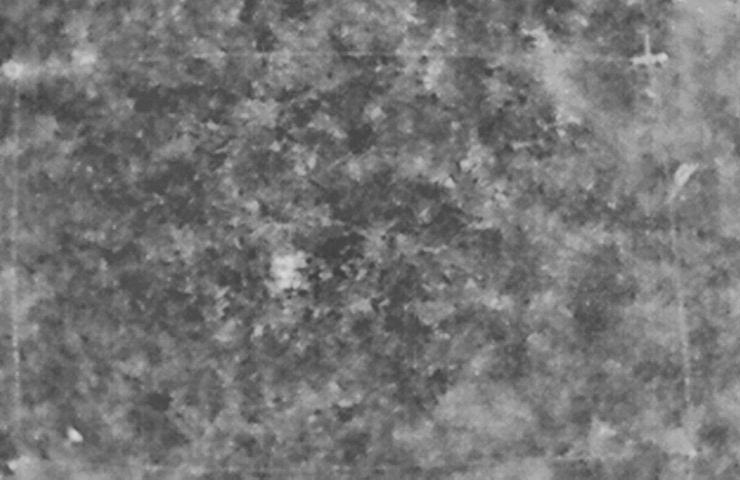landmines: (269, 250, 314, 296)
